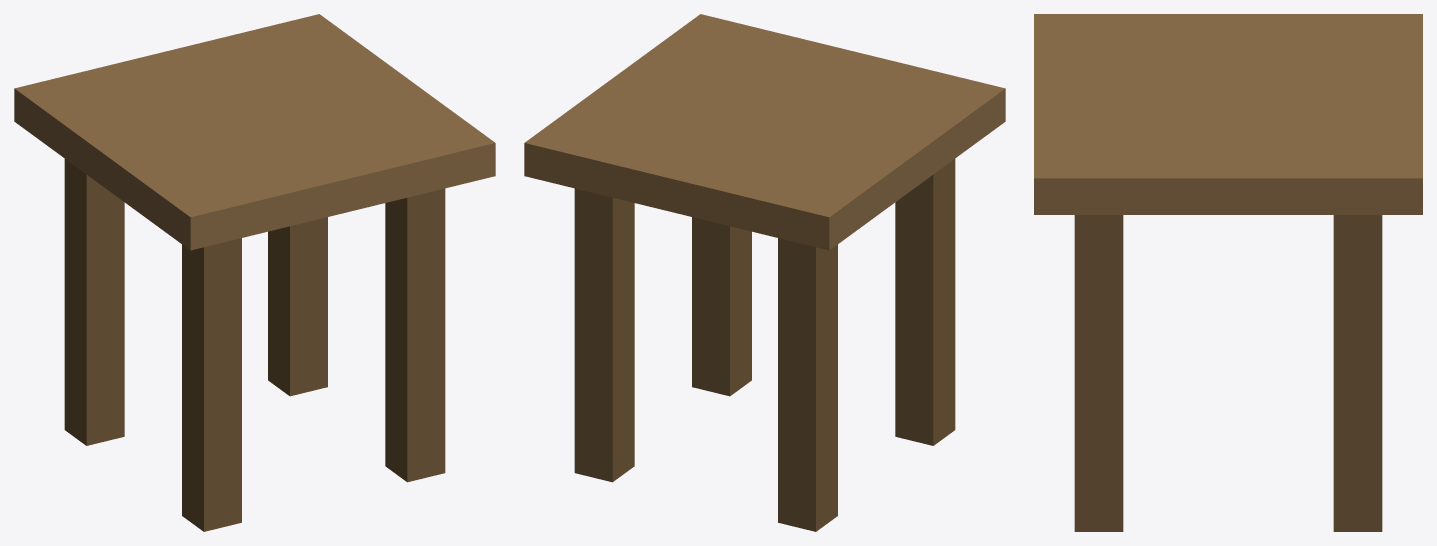
File: sidetable.glb
3 views of the same model, side by side, from view 1: azimuth 30°, elevation 25°; view 2: azimuth 150°, elevation 25°; view 3: azimuth 270°, elevation 25° (orthographic). The views are drawn at different scales.
Visible parts, largest first — view 1: sidetable; view 2: sidetable; view 3: sidetable.
Part boxes in pixels (x1=…): sidetable: x1=14, y1=14, x2=495, y2=531; sidetable: x1=524, y1=14, x2=1005, y2=531; sidetable: x1=1034, y1=14, x2=1422, y2=531.
Size of the model in its own units: 0.48 by 0.505 by 0.48.
